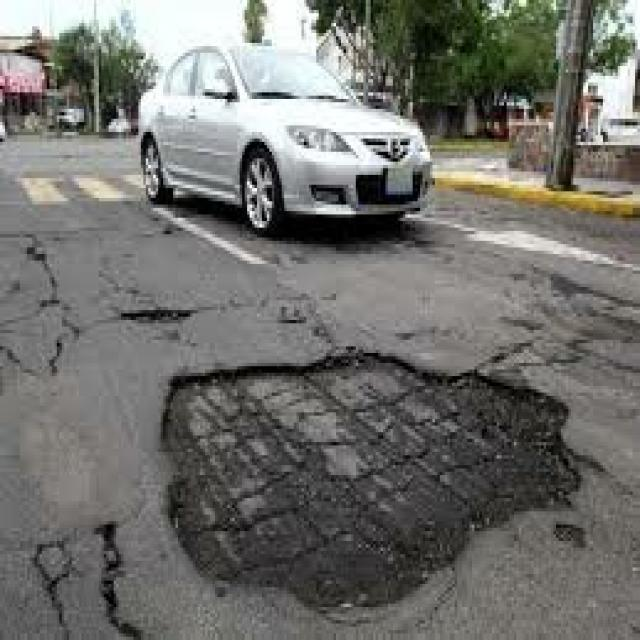Pothole: (164, 354, 576, 606)
